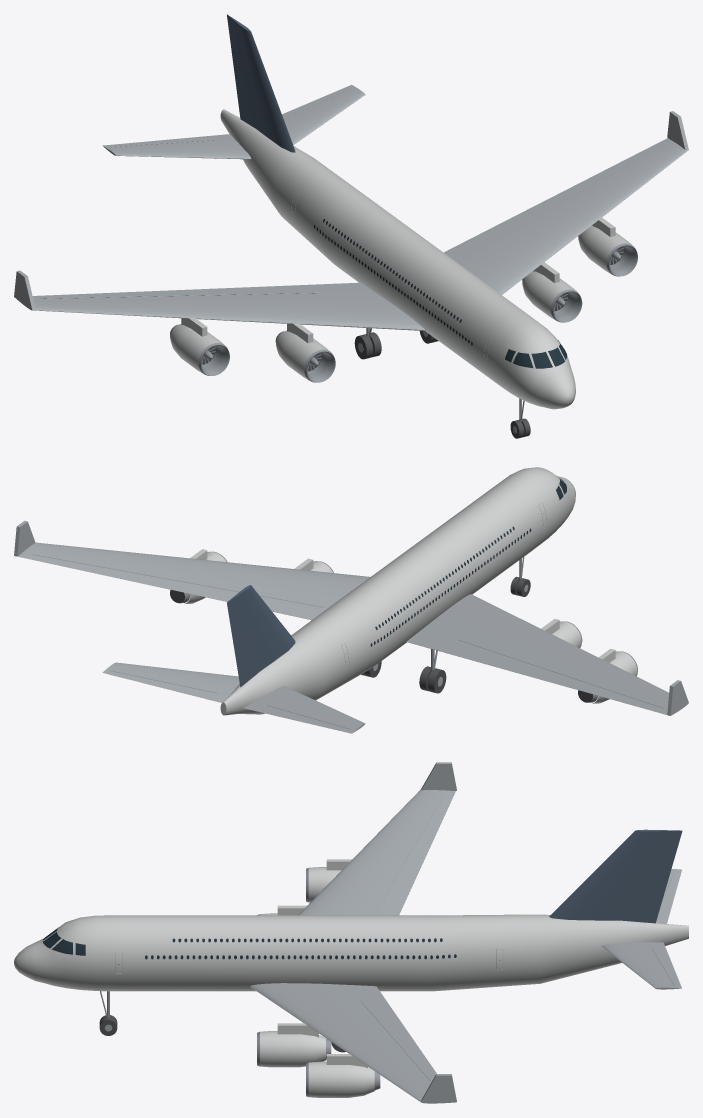
Rendered from aircraft-jumbo.glb.
3 views of the same model, one above another, from view 1: azimuth 30°, elevation 25°; view 2: azimuth 150°, elevation 25°; view 3: azimuth 270°, elevation 25° (orthographic). The views are drawn at different scales.
Parts seen in each view (by area): view 1: aircraft-jumbo, gear; view 2: aircraft-jumbo, gear; view 3: aircraft-jumbo.
Part boxes in pixels (left/top/right/bottom): aircraft-jumbo: left=14, top=14, right=688, bottom=409; gear: left=354, top=328, right=530, bottom=438; aircraft-jumbo: left=14, top=467, right=688, bottom=733; gear: left=361, top=557, right=530, bottom=693; aircraft-jumbo: left=14, top=762, right=688, bottom=1103.
Size of the model in its own units: 79.8 by 24.1 by 72.7.
